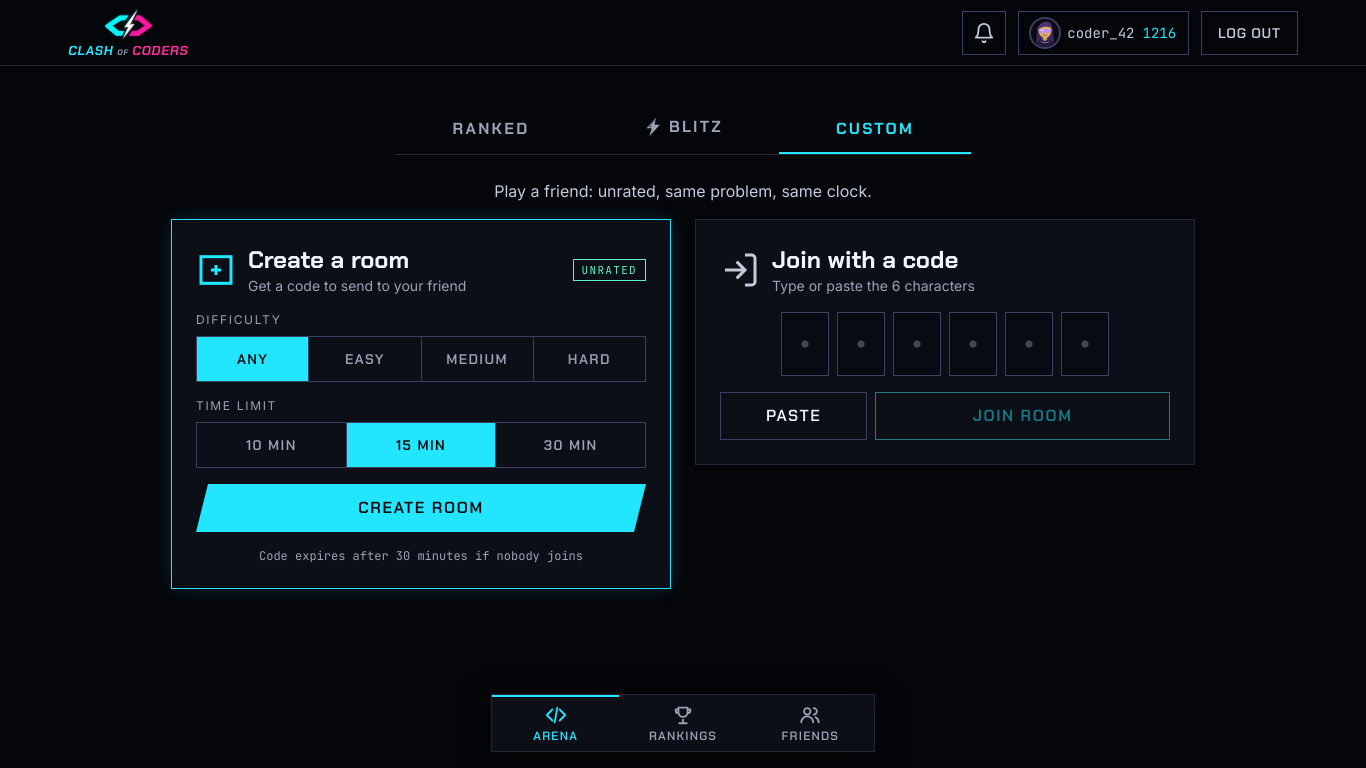
Scenario: arena: Ranked | Custom › shows why a room could not be made
Click the button "Create room" at (421, 508), box x1=196 y1=484 x2=646 y2=532
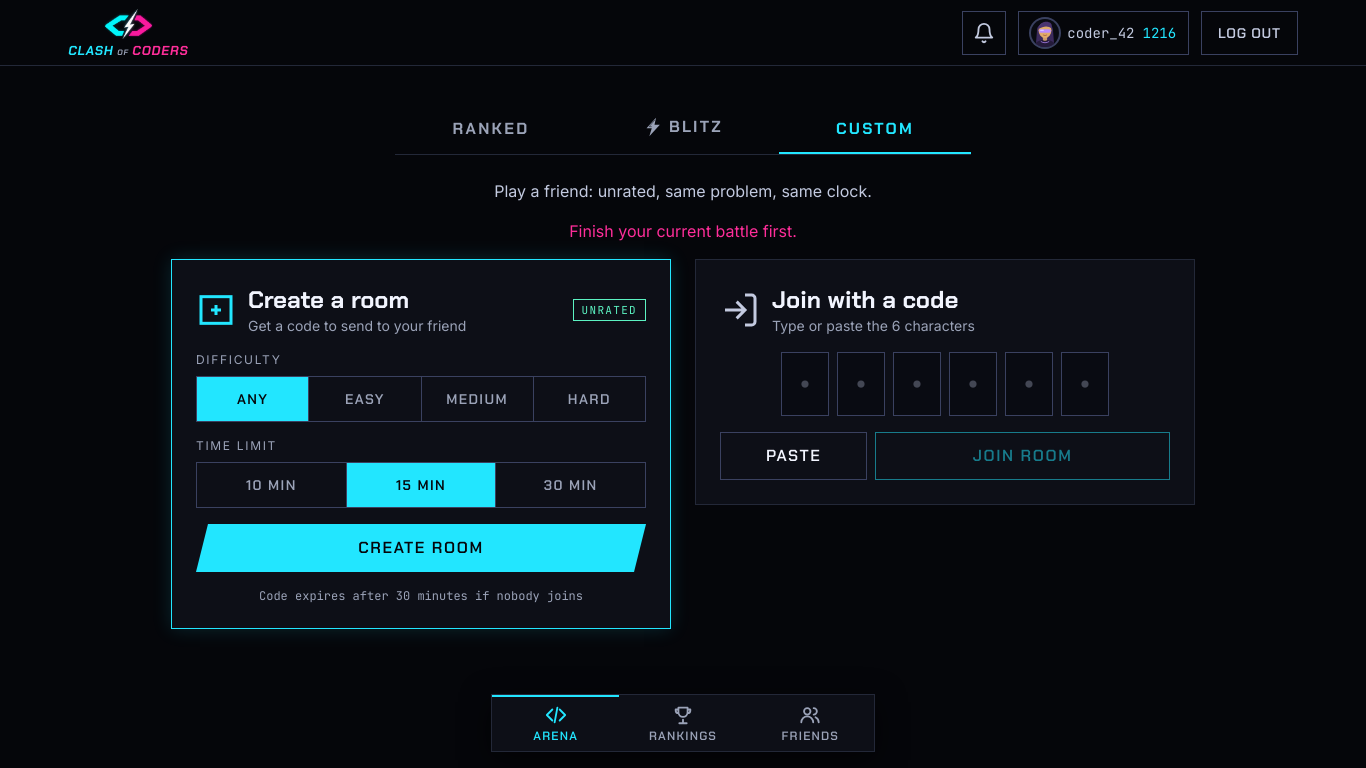
Expected: the message reads "Finish your current battle first.", x1=569 y1=221 x2=797 y2=241
